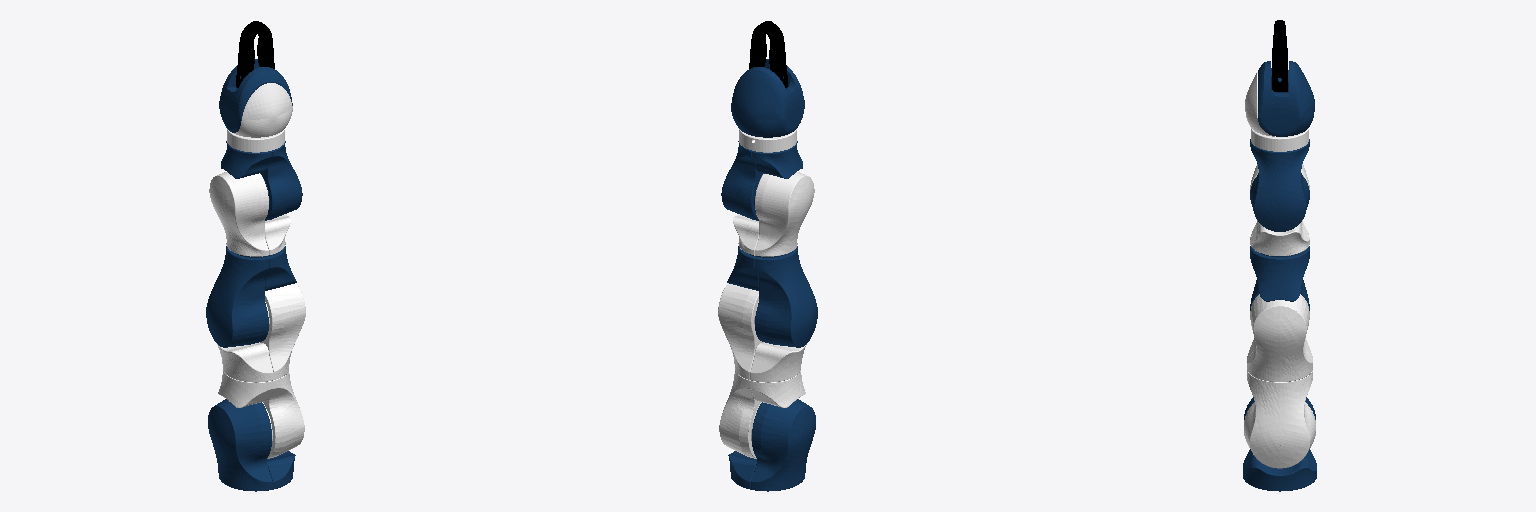
robot.urdf — lio:
<?xml version="1.0" ?>
<!-- =================================================================================== -->
<!-- |    This document was autogenerated by xacro from LIO.urdf.xacro                 | -->
<!-- |    EDITING THIS FILE BY HAND IS NOT RECOMMENDED                                 | -->
<!-- =================================================================================== -->
<robot name="lio">
  <material name="blue">
    <color rgba="0.12549019607843137 0.2784313725490196 0.43529411764705883 1"/>
  </material>
  <material name="black">
    <color rgba="0 0 0 1"/>
  </material>
  <material name="white">
    <color rgba="1 1 1 1"/>
  </material>
 
  <link name="LIO_base_link">

  </link>
 
  <joint name="lio_joint1" type="revolute">
    <origin rpy="0 0 1.570" xyz="0 0 0.478"/>
    <!-- <origin xyz="0 0 0.212" rpy="0 0 0" /> -->
    <parent link="LIO_base_link"/>
    <child link="lio_link12"/>
    <limit effort="150" lower="-2.9670597283903604" upper="2.9670597283903604" velocity="1.658062789394613"/>
    <axis xyz="0 0 1"/>
    <dynamics damping="5.0" friction="5.0"/>
  </joint>
  <!-- <transmission name="${name}_joint1_trans">
      <type>transmission_interface/SimpleTransmission</type>
      <actuator name="${name}_joint1_motor">
      <hardwareInterface>hardware_interface/PositionJointInterface</hardwareInterface>
        <mechanicalReduction>1</mechanicalReduction>
      </actuator>
      <joint name="${name}_joint1">
        <hardwareInterface>hardware_interface/PositionJointInterface</hardwareInterface>
      </joint>
  </transmission> -->
  <link name="lio_link12">
    <inertial>
      <origin rpy="0 0 0" xyz="8.71294630254049E-05 0.0 -0.00113740271757783"/>
      <mass value="3.652"/>
      <inertia ixx="0.06656" ixy="1e-05" ixz="1e-05" iyy="0.0661" iyz="0.00952" izz="0.0076"/>
    </inertial>
    <visual>
      <geometry>
        <mesh filename="package://p_arm_description/meshes/p_rob_2R/link12.STL"/>
      </geometry>
      <material name="blue"/>
    </visual>
    <collision>
      <geometry>
        <mesh filename="package://p_arm_description/meshes/p_rob_2R/link12.STL"/>
      </geometry>
    </collision>
  </link>
  <joint name="lio_joint2" type="revolute">
    <origin xyz="0 0 0.1505"/>
    <parent link="lio_link12"/>
    <child link="lio_link23"/>
    <limit effort="150" lower="-1.9198621771937625" upper="1.9198621771937625" velocity="1.658062789394613"/>
    <axis xyz="0 1 0"/>
    <dynamics damping="10.0" friction="5.0"/>
  </joint>
  <link name="lio_link23">
    <inertial>
      <origin xyz="8.71294630254052E-05 0.000951295697065868 -0.00113740271757783"/>
      <mass value="3.52"/>
      <inertia ixx="0.18406" ixy="2e-05" ixz="-8e-05" iyy="0.18142" iyz="0.01932" izz="0.00841"/>
    </inertial>
    <visual>
      <geometry>
        <mesh filename="package://p_arm_description/meshes/p_rob_2R/link23.STL"/>
      </geometry>
      <material name="white"/>
    </visual>
    <collision>
      <geometry>
        <mesh filename="package://p_arm_description/meshes/p_rob_2R/link23.STL"/>
      </geometry>
    </collision>
  </link>
  <joint name="lio_joint3" type="revolute">
    <origin xyz="0 0 0.29"/>
    <parent link="lio_link23"/>
    <child link="lio_link34"/>
    <limit effort="150" lower="-2.007128639793479" upper="2.007128639793479" velocity="1.658062789394613"/>
    <axis xyz="0 1 0"/>
    <dynamics damping="5.0" friction="5.0"/>
  </joint>
  <link name="lio_link34">
    <inertial>
      <origin rpy="0 0 0" xyz="8.71294630254052E-05 0.0 -0.00113740271757783"/>
      <mass value="1.626"/>
      <inertia ixx="0.02372" ixy="-2e-05" ixz="4e-05" iyy="0.02243" iyz="0.00024" izz="0.0343"/>
    </inertial>
    <visual>
      <geometry>
        <mesh filename="package://p_arm_description/meshes/p_rob_2R/link34.STL"/>
      </geometry>
      <material name="blue"/>
    </visual>
    <collision>
      <geometry>
        <mesh filename="package://p_arm_description/meshes/p_rob_2R/link34.STL"/>
      </geometry>
    </collision>
  </link>
  <joint name="lio_joint4" type="revolute">
    <origin xyz="0 0 0.1645"/>
    <parent link="lio_link34"/>
    <child link="lio_link45"/>
    <limit effort="55" lower="-2.9670597283903604" upper="2.9670597283903604" velocity="1.658062789394613"/>
    <axis xyz="0 0 1"/>
    <dynamics damping="5.0" friction="5.0"/>
  </joint>
  <link name="lio_link45">
    <inertial>
      <origin rpy="0 0 0" xyz="8.71294630254052E-05 0.0 -0.00113740271757783"/>
      <mass value="1.516"/>
      <inertia ixx="0.02488" ixy="2e-05" ixz="3e-05" iyy="0.02409" iyz="0.00398" izz="0.00272"/>
    </inertial>
    <visual>
      <geometry>
        <mesh filename="package://p_arm_description/meshes/p_rob_2R/link45.STL"/>
      </geometry>
      <material name="white"/>
    </visual>
    <collision>
      <geometry>
        <mesh filename="package://p_arm_description/meshes/p_rob_2R/link45.STL"/>
      </geometry>
    </collision>
  </link>
  <joint name="lio_joint5" type="revolute">
    <origin xyz="0 0 0.1455"/>
    <parent link="lio_link45"/>
    <child link="lio_link56"/>
    <limit effort="55" lower="-2.007128639793479" upper="2.007128639793479" velocity="1.658062789394613"/>
    <axis xyz="0 1 0"/>
    <dynamics damping="5.0" friction="5.0"/>
  </joint>
  <link name="lio_link56">
    <inertial>
      <origin xyz="-8.71294630254049E-05 0.0 0.00113740271757783"/>
      <mass value="1.417"/>
      <inertia ixx="0.01351" ixy="-2e-05" ixz="-3e-05" iyy="0.01261" iyz="-0.00012" izz="0.00274"/>
    </inertial>
    <visual>
      <geometry>
        <mesh filename="package://p_arm_description/meshes/p_rob_2R/link56.STL"/>
      </geometry>
      <material name="blue"/>
    </visual>
    <collision>
      <geometry>
        <mesh filename="package://p_arm_description/meshes/p_rob_2R/link56.STL"/>
      </geometry>
    </collision>
  </link>
  <joint name="lio_joint6" type="revolute">
    <origin xyz="0 0 0.129"/>
    <parent link="lio_link56"/>
    <child link="lio_link6G"/>
    <limit effort="30" lower="-2.9670597283903604" upper="2.9670597283903604" velocity="1.658062789394613"/>
    <axis xyz="0 0 1"/>
    <dynamics damping="5.0" friction="5.0"/>
  </joint>
  <link name="lio_link6G">
    <inertial>
      <origin xyz="-0.00113740271757783 0.0 8.7129463025477E-05"/>
      <mass value="0.435"/>
      <inertia ixx="0.00079" ixy="0.0" ixz="0.0" iyy="0.00086" iyz="-1e-05" izz="0.00084"/>
    </inertial>
    <visual>
      <geometry>
        <mesh filename="package://p_arm_description/meshes/p_rob_2R/link6G.STL"/>
      </geometry>
      <material name="white"/>
    </visual>
    <collision>
      <geometry>
        <mesh filename="package://p_arm_description/meshes/p_rob_2R/link6G.STL"/>
      </geometry>
    </collision>
  </link>
  <joint name="lio_gripper_interface_joint" type="fixed">
    <origin xyz="0 0 0.046"/>
    <parent link="lio_link6G"/>
    <child link="lio_gripper_interface_link"/>
  </joint>
  <link name="lio_gripper_interface_link">
    <inertial>
      <!-- the inertia values are guessed-->
      <origin xyz="0 0 0"/>
      <mass value="0.1"/>
      <inertia ixx="0.0001" ixy="0.9" ixz="0.0" iyy="0.0001" iyz="0.0" izz="0.0001"/>
    </inertial>
  </link>

  <joint name="lio_back_cover_joint" type="fixed">
    <parent link="lio_gripper_interface_link"/>
    <child link="lio_back_cover"/>
  </joint>
  <link name="lio_back_cover">
    <inertial>
      <origin xyz="2.24196111270369E-06 -0.00408460946644196 -0.0510660065280277"/>
      <mass value="0.82454352978473"/>
      <inertia ixx="0.00151927417232363" ixy="-3.02654547820246E-07" ixz="-4.4543064624827E-08" iyy="0.00163894166884312" iyz="-2.0883019834409E-05" izz="0.00153211830480003"/>
    </inertial>
    <visual>
      <geometry>
        <mesh filename="package://p_grip_description/meshes/p_grip_2F/back_cover.STL"/>
      </geometry>
      <material name="white"/>
    </visual>
    <collision>
      <geometry>
        <mesh filename="package://p_grip_description/meshes/p_grip_2F/back_cover.STL"/>
      </geometry>
    </collision>
  </link>
  <!-- Main body of the gripper. -->
  <joint name="lio_p_grip_connector" type="fixed">
    <origin rpy="0 -1.57 3.14" xyz="-0.052 0 0.052"/>
    <parent link="lio_gripper_interface_link"/>
    <child link="lio_gripper_link"/>
  </joint>
  <link name="lio_gripper_link">
    <inertial>
      <origin xyz="2.24196111270369E-06 -0.00408460946644196 -0.0510660065280277"/>
      <mass value="0.82454352978473"/>
      <inertia ixx="0.00151927417232363" ixy="-3.02654547820246E-07" ixz="-4.4543064624827E-08" iyy="0.00163894166884312" iyz="-2.0883019834409E-05" izz="0.00153211830480003"/>
    </inertial>
    <visual>
      <geometry>
        <mesh filename="package://p_grip_description/meshes/p_grip_2F/p_grip.STL"/>
      </geometry>
      <material name="blue"/>
    </visual>
    <collision>
      <geometry>
        <mesh filename="package://p_grip_description/meshes/p_grip_2F/p_grip.STL"/>
      </geometry>
    </collision>
  </link>
  <!-- The left finger can be actuated via ROS. -->
  <joint name="lio_gripper_joint" type="revolute">
    <origin rpy="0 0 0" xyz="0.0645 0 0.052"/>
    <parent link="lio_gripper_link"/>
    <child link="lio_left_finger"/>
    <limit effort="50" lower="0.0" upper="0.5235987755982988" velocity="1.0471975511965976"/>
    <axis xyz="0 0 1"/>
  </joint>
  <link name="lio_left_finger">
    <inertial>
      <!-- the inertia values are guessed-->
      <origin xyz="0 0 0"/>
      <mass value="0.1"/>
      <inertia ixx="0.0001" ixy="0.9" ixz="0.0" iyy="0.0001" iyz="0.0" izz="0.0001"/>
    </inertial>
    <visual>
      <origin rpy="0 0 0"/>
      <geometry>
        <mesh filename="package://p_grip_description/meshes/p_grip_2F/finger.STL"/>
      </geometry>
      <material name="black"/>
    </visual>
    <collision>
      <origin rpy="0 0 0"/>
      <geometry>
        <mesh filename="package://p_grip_description/meshes/p_grip_2F/finger.STL"/>
      </geometry>
    </collision>
  </link>
  <!-- The right finger simply mirrors the left one. -->
  <joint name="lio_passive_gripper_joint" type="revolute">
    <mimic joint="lio_gripper_joint" multiplier="-1" offset="0"/>
    <origin rpy="0 0 0" xyz="0.0645 0 0.052"/>
    <parent link="lio_gripper_link"/>
    <child link="lio_right_finger"/>
    <limit effort="1000.0" lower="-0.5235987755982988" upper="0.0" velocity="170"/>
    <axis xyz="0 0 1"/>
  </joint>
  <link name="lio_right_finger">
    <inertial>
      <!-- the inertia values are guessed-->
      <origin xyz="0 0 0"/>
      <mass value="0.1"/>
      <inertia ixx="0.0001" ixy="0.9" ixz="0.0" iyy="0.0001" iyz="0.0" izz="0.0001"/>
    </inertial>
    <visual>
      <origin rpy="3.141592653589793 0 0"/>
      <geometry>
        <mesh filename="package://p_grip_description/meshes/p_grip_2F/finger.STL"/>
      </geometry>
      <material name="black"/>
    </visual>
    <collision>
      <origin rpy="3.141592653589793 0 0"/>
      <geometry>
        <mesh filename="package://p_grip_description/meshes/p_grip_2F/finger.STL"/>
      </geometry>
    </collision>
  </link>
  <!-- The tool center point is used for kinematics and path planning. -->
  <joint name="lio_tcp_joint" type="fixed">
    <origin rpy="0 0 0" xyz="0.189 0 0.052"/>
    <parent link="lio_gripper_link"/>
    <child link="lio_tcp_link"/>
  </joint>
  <link name="lio_tcp_link">
    <inertial>
      <!-- the inertia values are guessed-->
      <origin xyz="0 0 0"/>
      <mass value="0.1"/>
      <inertia ixx="0.0001" ixy="0.9" ixz="0.0" iyy="0.0001" iyz="0.0" izz="0.0001"/>
    </inertial>
  </link>
  <joint name="lio_tis_cam_joint" type="fixed">
    <origin rpy="-1.5707963267948966 0.0 -1.5707963267948966" xyz="-0.095 0.0 0.053"/>
    <parent link="lio_tcp_link"/>
    <child link="tis_cam"/>
  </joint>
  <link name="tis_cam">
    <inertial>
      <!-- the inertia values are guessed but needed for gazebo -->
      <origin xyz="0 0 0"/>
      <mass value="0.001"/>
      <inertia ixx="0.0001" ixy="0.9" ixz="0.0" iyy="0.0001" iyz="0.0" izz="0.0001"/>
    </inertial>
  </link>
  <!-- we need this joint and link for the camera plugin in gazebo the x is taken for camera direction -->
  <joint name="lio_tis_cam_sim_plugin_joint" type="fixed">
    <origin rpy="0 -1.5707963267948966 0" xyz="0.0 0.0 0.0"/>
    <parent link="tis_cam"/>
    <child link="tis_cam_sim_plugin"/>
  </joint>
  <link name="tis_cam_sim_plugin">
    <inertial>
      <!-- the inertia values are guessed but needed for gazebo -->
      <origin xyz="0 0 0"/>
      <mass value="0.001"/>
      <inertia ixx="0.0001" ixy="0.9" ixz="0.0" iyy="0.0001" iyz="0.0" izz="0.0001"/>
    </inertial>
  </link>
</robot>

--- Render facts (derived) ---
3 views of the same robot in one strip: view 1: azimuth 30°, elevation 25°; view 2: azimuth 150°, elevation 25°; view 3: azimuth 270°, elevation 25° (orthographic).
Robot: lio — 15 links, 14 joints (8 revolute, 6 fixed); root link LIO_base_link; default pose: all joints at 0.
Visible links, largest first — view 1: lio_link23, lio_link34, lio_link12, lio_link45, lio_link56, lio_back_cover, lio_gripper_link, lio_right_finger, lio_link6G, lio_left_finger; view 2: lio_link23, lio_link34, lio_link12, lio_link45, lio_gripper_link, lio_link56, lio_right_finger, lio_link6G, lio_left_finger; view 3: lio_link23, lio_link56, lio_gripper_link, lio_link34, lio_link12, lio_link45, lio_left_finger, lio_link6G, lio_back_cover.
Boxes of the visible links, x1,y1,x2,y2 form: lio_link23: [217, 283, 305, 458]; lio_link34: [206, 246, 296, 347]; lio_link12: [208, 399, 295, 491]; lio_link45: [209, 172, 290, 256]; lio_link56: [221, 141, 302, 220]; lio_back_cover: [234, 83, 292, 137]; lio_gripper_link: [219, 59, 292, 132]; lio_right_finger: [236, 21, 257, 87]; lio_link6G: [227, 129, 284, 152]; lio_left_finger: [256, 21, 274, 68]; lio_link23: [718, 283, 806, 458]; lio_link34: [727, 246, 817, 347]; lio_link12: [728, 399, 815, 491]; lio_link45: [733, 172, 814, 256]; lio_gripper_link: [731, 59, 804, 137]; lio_link56: [721, 141, 802, 220]; lio_right_finger: [766, 21, 787, 87]; lio_link6G: [739, 129, 796, 152]; lio_left_finger: [749, 21, 768, 68]; lio_link23: [1244, 294, 1315, 468]; lio_link56: [1250, 139, 1309, 231]; lio_gripper_link: [1258, 61, 1314, 136]; lio_link34: [1250, 246, 1309, 310]; lio_link12: [1243, 397, 1316, 491]; lio_link45: [1250, 164, 1309, 255]; lio_left_finger: [1272, 21, 1287, 91]; lio_link6G: [1251, 128, 1308, 151]; lio_back_cover: [1245, 72, 1275, 136].
Bounding box of the posed robot: 0.2219 × 0.175 × 1.18 m (x, y, z).
Meshes: 9 distinct files referenced, 10 mesh visuals loaded (9 binary STL).
